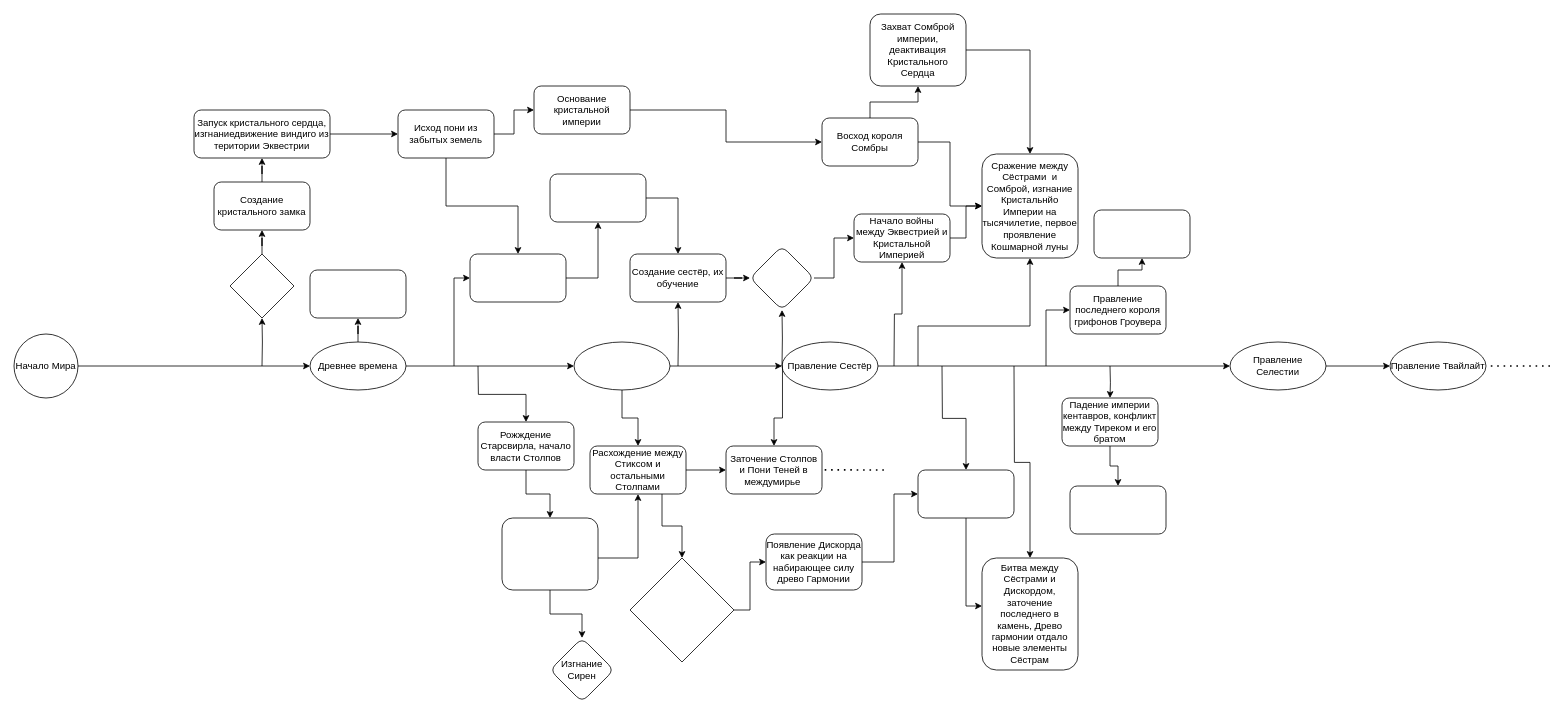
This 1566x716 diagram has some shape labels left out. Each missing label, with the centre of its shape:
"Восход Сестёр" goes at point (781, 277).
"Заточение Тирека в Тартаре" goes at point (1117, 509).
"Исторические события основания империй драконов, грифонов, кентавров" goes at point (357, 293).
"Исторические события основания эквестрии" goes at point (517, 277).
"Концентрация элементов, создание древа гармониии" goes at point (681, 609).
"Открытие зеркала" goes at point (261, 285).
"Первая активация элементов гармонии заключённых в личных предметах Столпов" goes at point (549, 553).
"Правление Круга" goes at point (621, 365).
"Пропажа идола, падение Грифнстоуна" goes at point (1141, 233).
"Проявление безумия по всей Эквестрии" goes at point (965, 493).
"Старсвирл занимает место главы Круга, начало поиска альтернативы" goes at point (597, 197).
